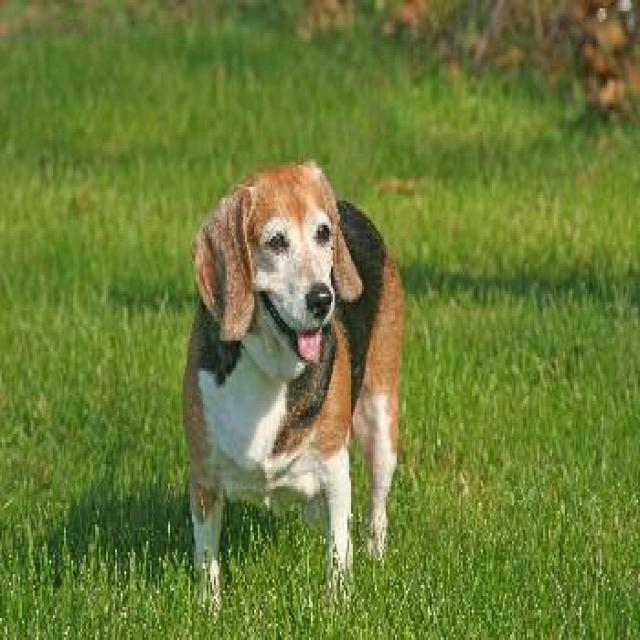Dogs: (179, 157, 404, 615)
